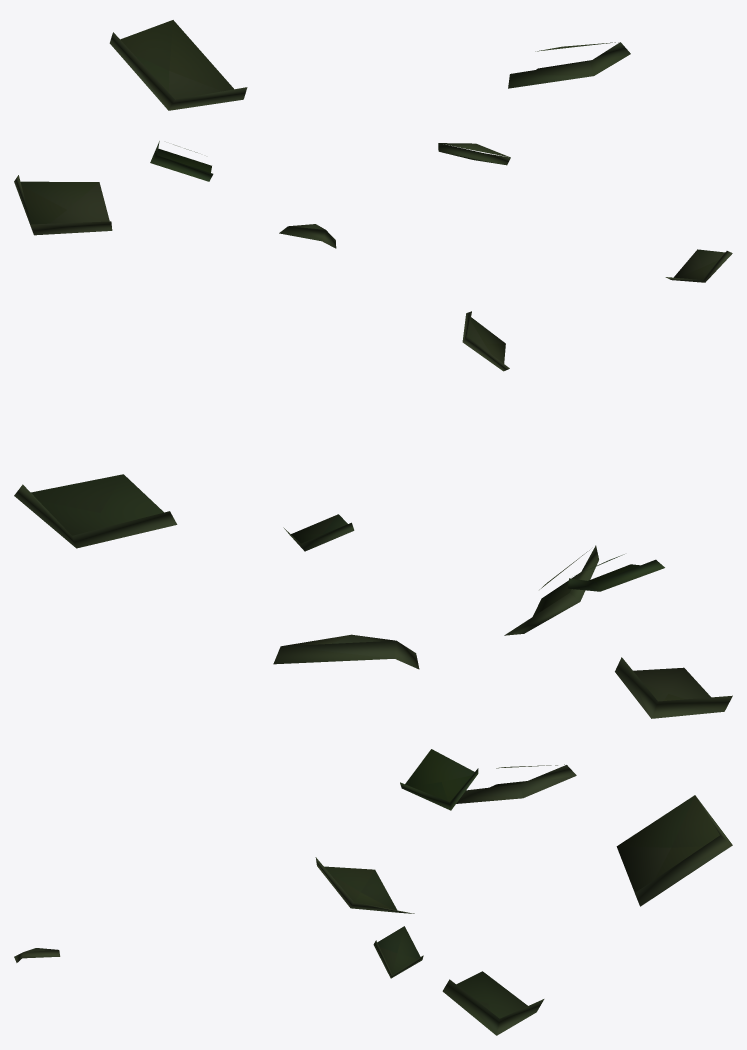
The model's file is leaf_pile_v3.glb.
3 renders of one model, top to bottom at view 1: azimuth 30°, elevation 25°; view 2: azimuth 150°, elevation 25°; view 3: azimuth 270°, elevation 25°, orthographic. The views are drawn at different scales.
Bounding box in the file's own units: 0.9523 × 0.17 × 1.
